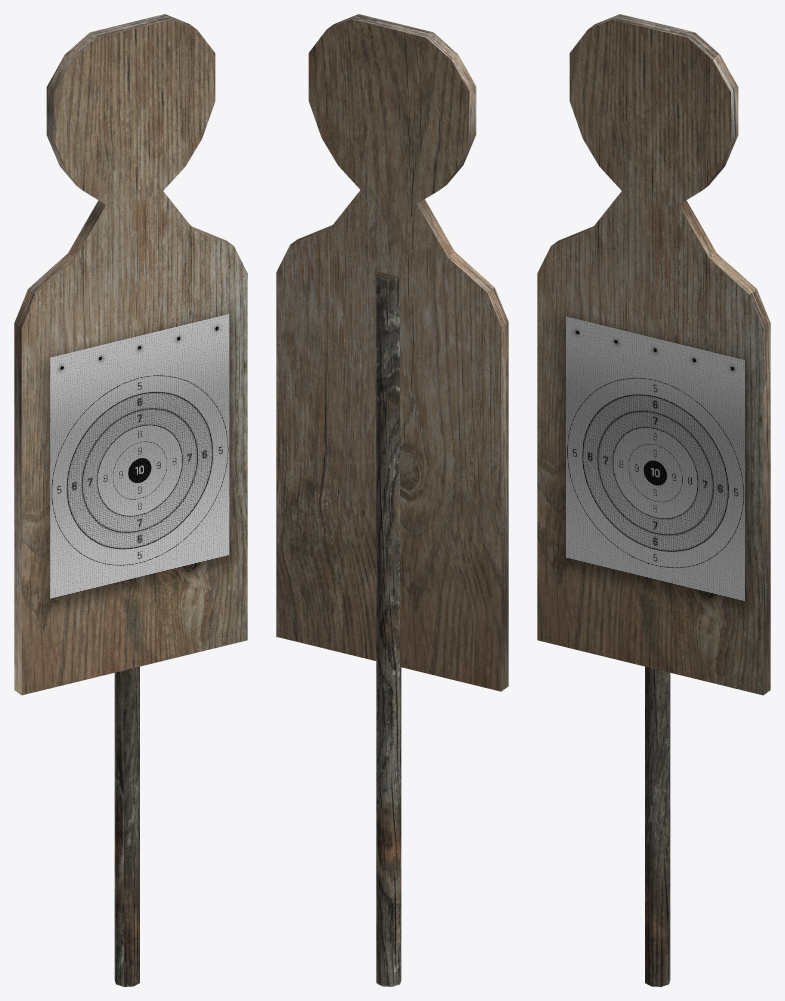
The model's file is GalleryTarget.fbx.
3 views of the same model, side by side, from view 1: azimuth 30°, elevation 25°; view 2: azimuth 150°, elevation 25°; view 3: azimuth 330°, elevation 25° (orthographic).
Visible parts, largest first — view 1: GalleryTarget; view 2: GalleryTarget; view 3: GalleryTarget.
Boxes of the visible parts, x1,y1,x2,y2 form: GalleryTarget: [14, 14, 247, 986]; GalleryTarget: [276, 14, 508, 986]; GalleryTarget: [537, 14, 770, 986].
Bounding box in the file's own units: 0.8704 × 0.093 × 3.52.
